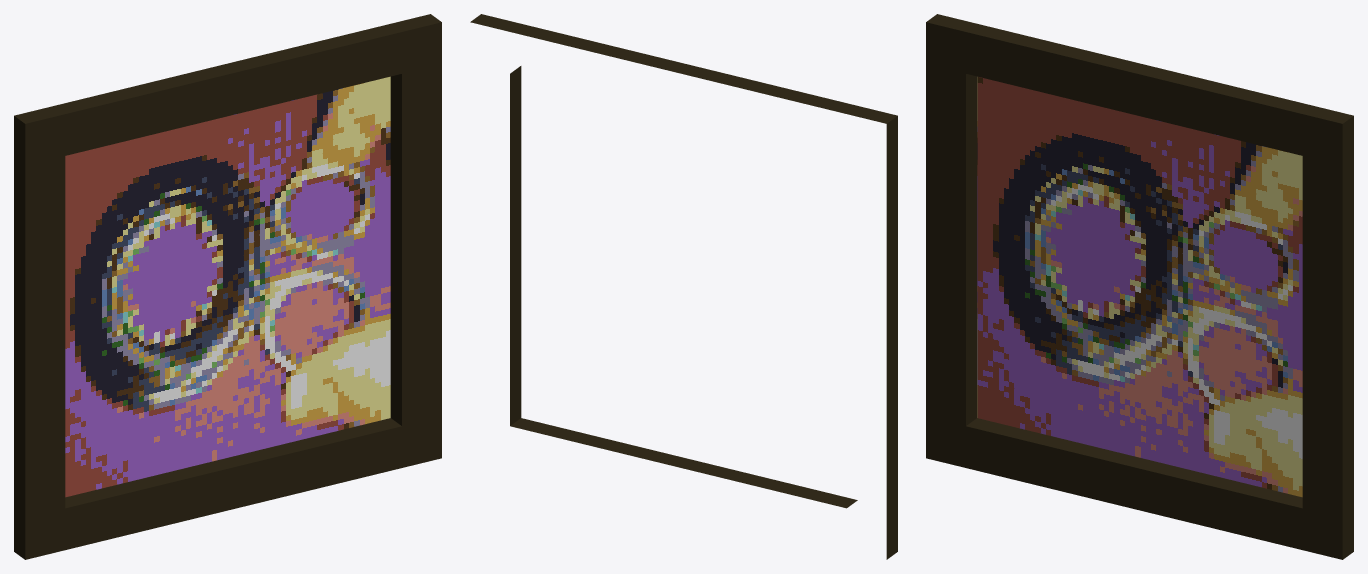
File: Egg1GLB.glb
The picture shows the model from 3 angles, left to right: view 1: azimuth 30°, elevation 25°; view 2: azimuth 150°, elevation 25°; view 3: azimuth 330°, elevation 25°; orthographic projection.
Visible parts, largest first — view 1: polySurface9, polySurface10; view 2: polySurface10; view 3: polySurface9, polySurface10.
Boxes of the visible parts, box(x1,y1,x2,y2) form: polySurface9: box(65, 76, 390, 497); polySurface10: box(14, 14, 441, 559); polySurface10: box(470, 14, 897, 559); polySurface9: box(977, 76, 1302, 497); polySurface10: box(926, 14, 1353, 559).
Bounding box in the file's own units: 1.24 × 1.24 × 0.0578.
Materials: 2 (1 with a texture image).
